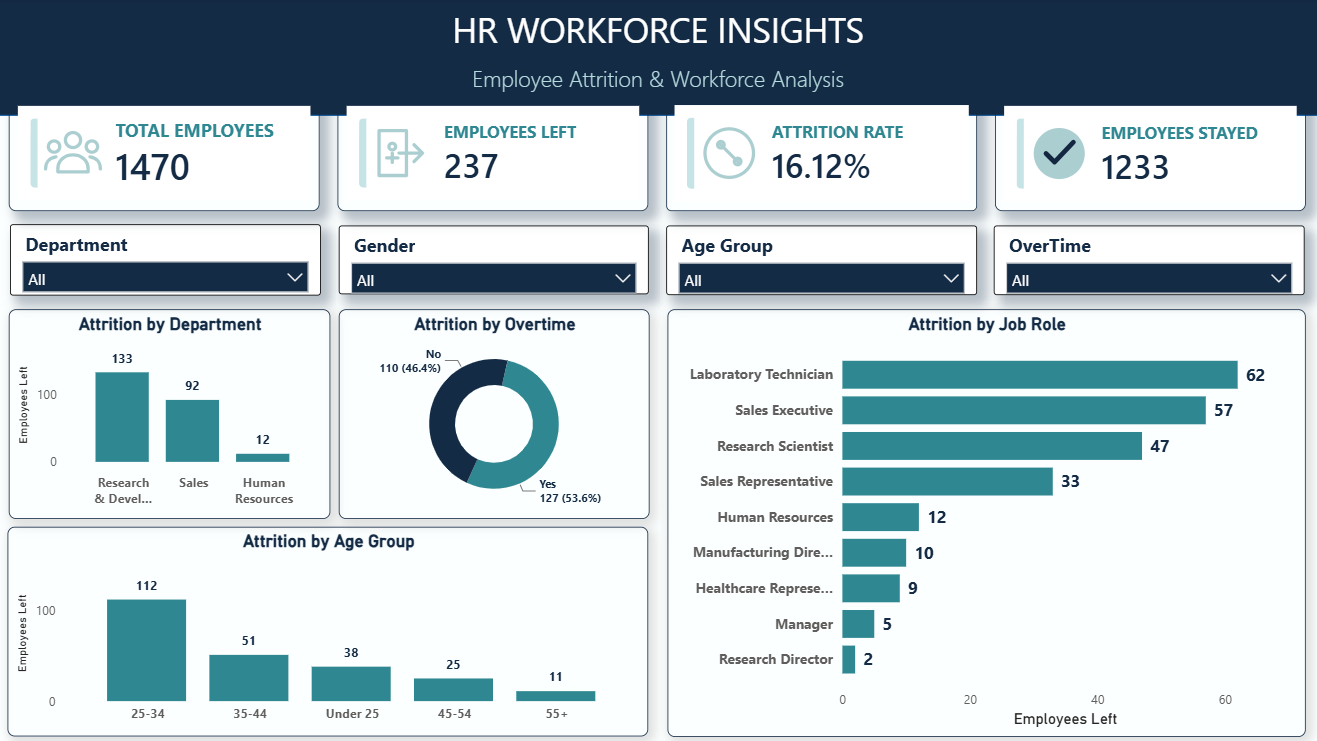

The dashboard page shown, as its layout file describes it:
{"tool":"powerbi","page":{"name":"Attrition Analysis","canvas":[1280,720],"ordinal":0},"visuals":[{"type":"shape","box":[0,0,1280,113.8],"z":0},{"type":"clusteredColumnChart","title":"Attrition by Department","fields":{"Category":["hr_analytics hr_employee_attrition.Department"],"Y":["hr_analytics hr_employee_attrition.Employees Left"]},"box":[13.8,300.4,310,202.5],"z":1000},{"type":"clusteredBarChart","title":"Attrition by Job Role","fields":{"Category":["hr_analytics hr_employee_attrition.JobRole"],"Y":["hr_analytics hr_employee_attrition.Employees Left"]},"box":[648.6,300,615.7,412.9],"z":2000},{"type":"donutChart","title":"Attrition by Overtime","fields":{"Category":["hr_analytics hr_employee_attrition.OverTime"],"Y":["hr_analytics hr_employee_attrition.Employees Left"]},"box":[331.2,300.4,300,202.5],"z":3000},{"type":"clusteredColumnChart","title":"Attrition by Age Group","fields":{"Category":["hr_analytics hr_employee_attrition.Age Group"],"Y":["hr_analytics hr_employee_attrition.Employees Left"]},"box":[12.5,510,618.8,202.5],"z":4000},{"type":"textbox","title":"HR WORKFORCE INSIGHTS","box":[0,7.1,1280,95.7],"z":8000},{"type":"slicer","fields":{"Values":["hr_analytics hr_employee_attrition.Department"]},"box":[14.3,218.6,300,68.6],"z":9000},{"type":"slicer","fields":{"Values":["hr_analytics hr_employee_attrition.Gender"]},"box":[331.2,219.6,299.3,66.7],"z":10000},{"type":"slicer","fields":{"Values":["hr_analytics hr_employee_attrition.Age Group"]},"box":[647.4,219.3,300,67.3],"z":11000},{"type":"slicer","fields":{"Values":["hr_analytics hr_employee_attrition.OverTime"]},"box":[964.3,219.4,300,67.1],"z":12000},{"type":"cardVisual","fields":{"Data":["hr_analytics hr_employee_attrition.Attrition Rate"]},"box":[647.9,95.3,300,110],"z":14000},{"type":"cardVisual","fields":{"Data":["hr_analytics hr_employee_attrition.Employees Left"]},"box":[330.8,95.3,300,110],"z":15000},{"type":"cardVisual","fields":{"Data":["hr_analytics hr_employee_attrition.Employees Stayed"]},"box":[965,95.3,300,110],"z":16000},{"type":"cardVisual","fields":{"Data":["Count(hr_analytics hr_employee_attrition.EmployeeNumber)"]},"box":[13.6,95.3,300,110],"z":17000}]}

Visuals, with their boxes in screenshot pixels (x1, y1, x2, y2), scaled from the page's 1280x720 canvas onto the 1317x741 screenshot:
shape: <region>0, 0, 1316, 117</region>
"Attrition by Department" clusteredColumnChart: <region>14, 309, 333, 518</region>
"Attrition by Job Role" clusteredBarChart: <region>667, 309, 1301, 734</region>
"Attrition by Overtime" donutChart: <region>341, 309, 649, 518</region>
"Attrition by Age Group" clusteredColumnChart: <region>13, 525, 650, 733</region>
"HR WORKFORCE INSIGHTS" textbox: <region>0, 7, 1316, 106</region>
slicer - hr_analytics hr_employee_attrition.Department: <region>15, 225, 323, 296</region>
slicer - hr_analytics hr_employee_attrition.Gender: <region>341, 226, 649, 295</region>
slicer - hr_analytics hr_employee_attrition.Age Group: <region>666, 226, 975, 295</region>
slicer - hr_analytics hr_employee_attrition.OverTime: <region>992, 226, 1301, 295</region>
cardVisual - hr_analytics hr_employee_attrition.Attrition Rate: <region>667, 98, 975, 211</region>
cardVisual - hr_analytics hr_employee_attrition.Employees Left: <region>340, 98, 649, 211</region>
cardVisual - hr_analytics hr_employee_attrition.Employees Stayed: <region>993, 98, 1302, 211</region>
cardVisual - Count(hr_analytics hr_employee_attrition.EmployeeNumber): <region>14, 98, 323, 211</region>
